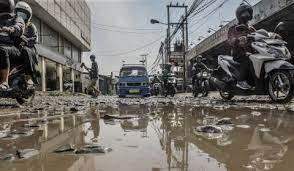Pothole: (0, 97, 294, 171)
